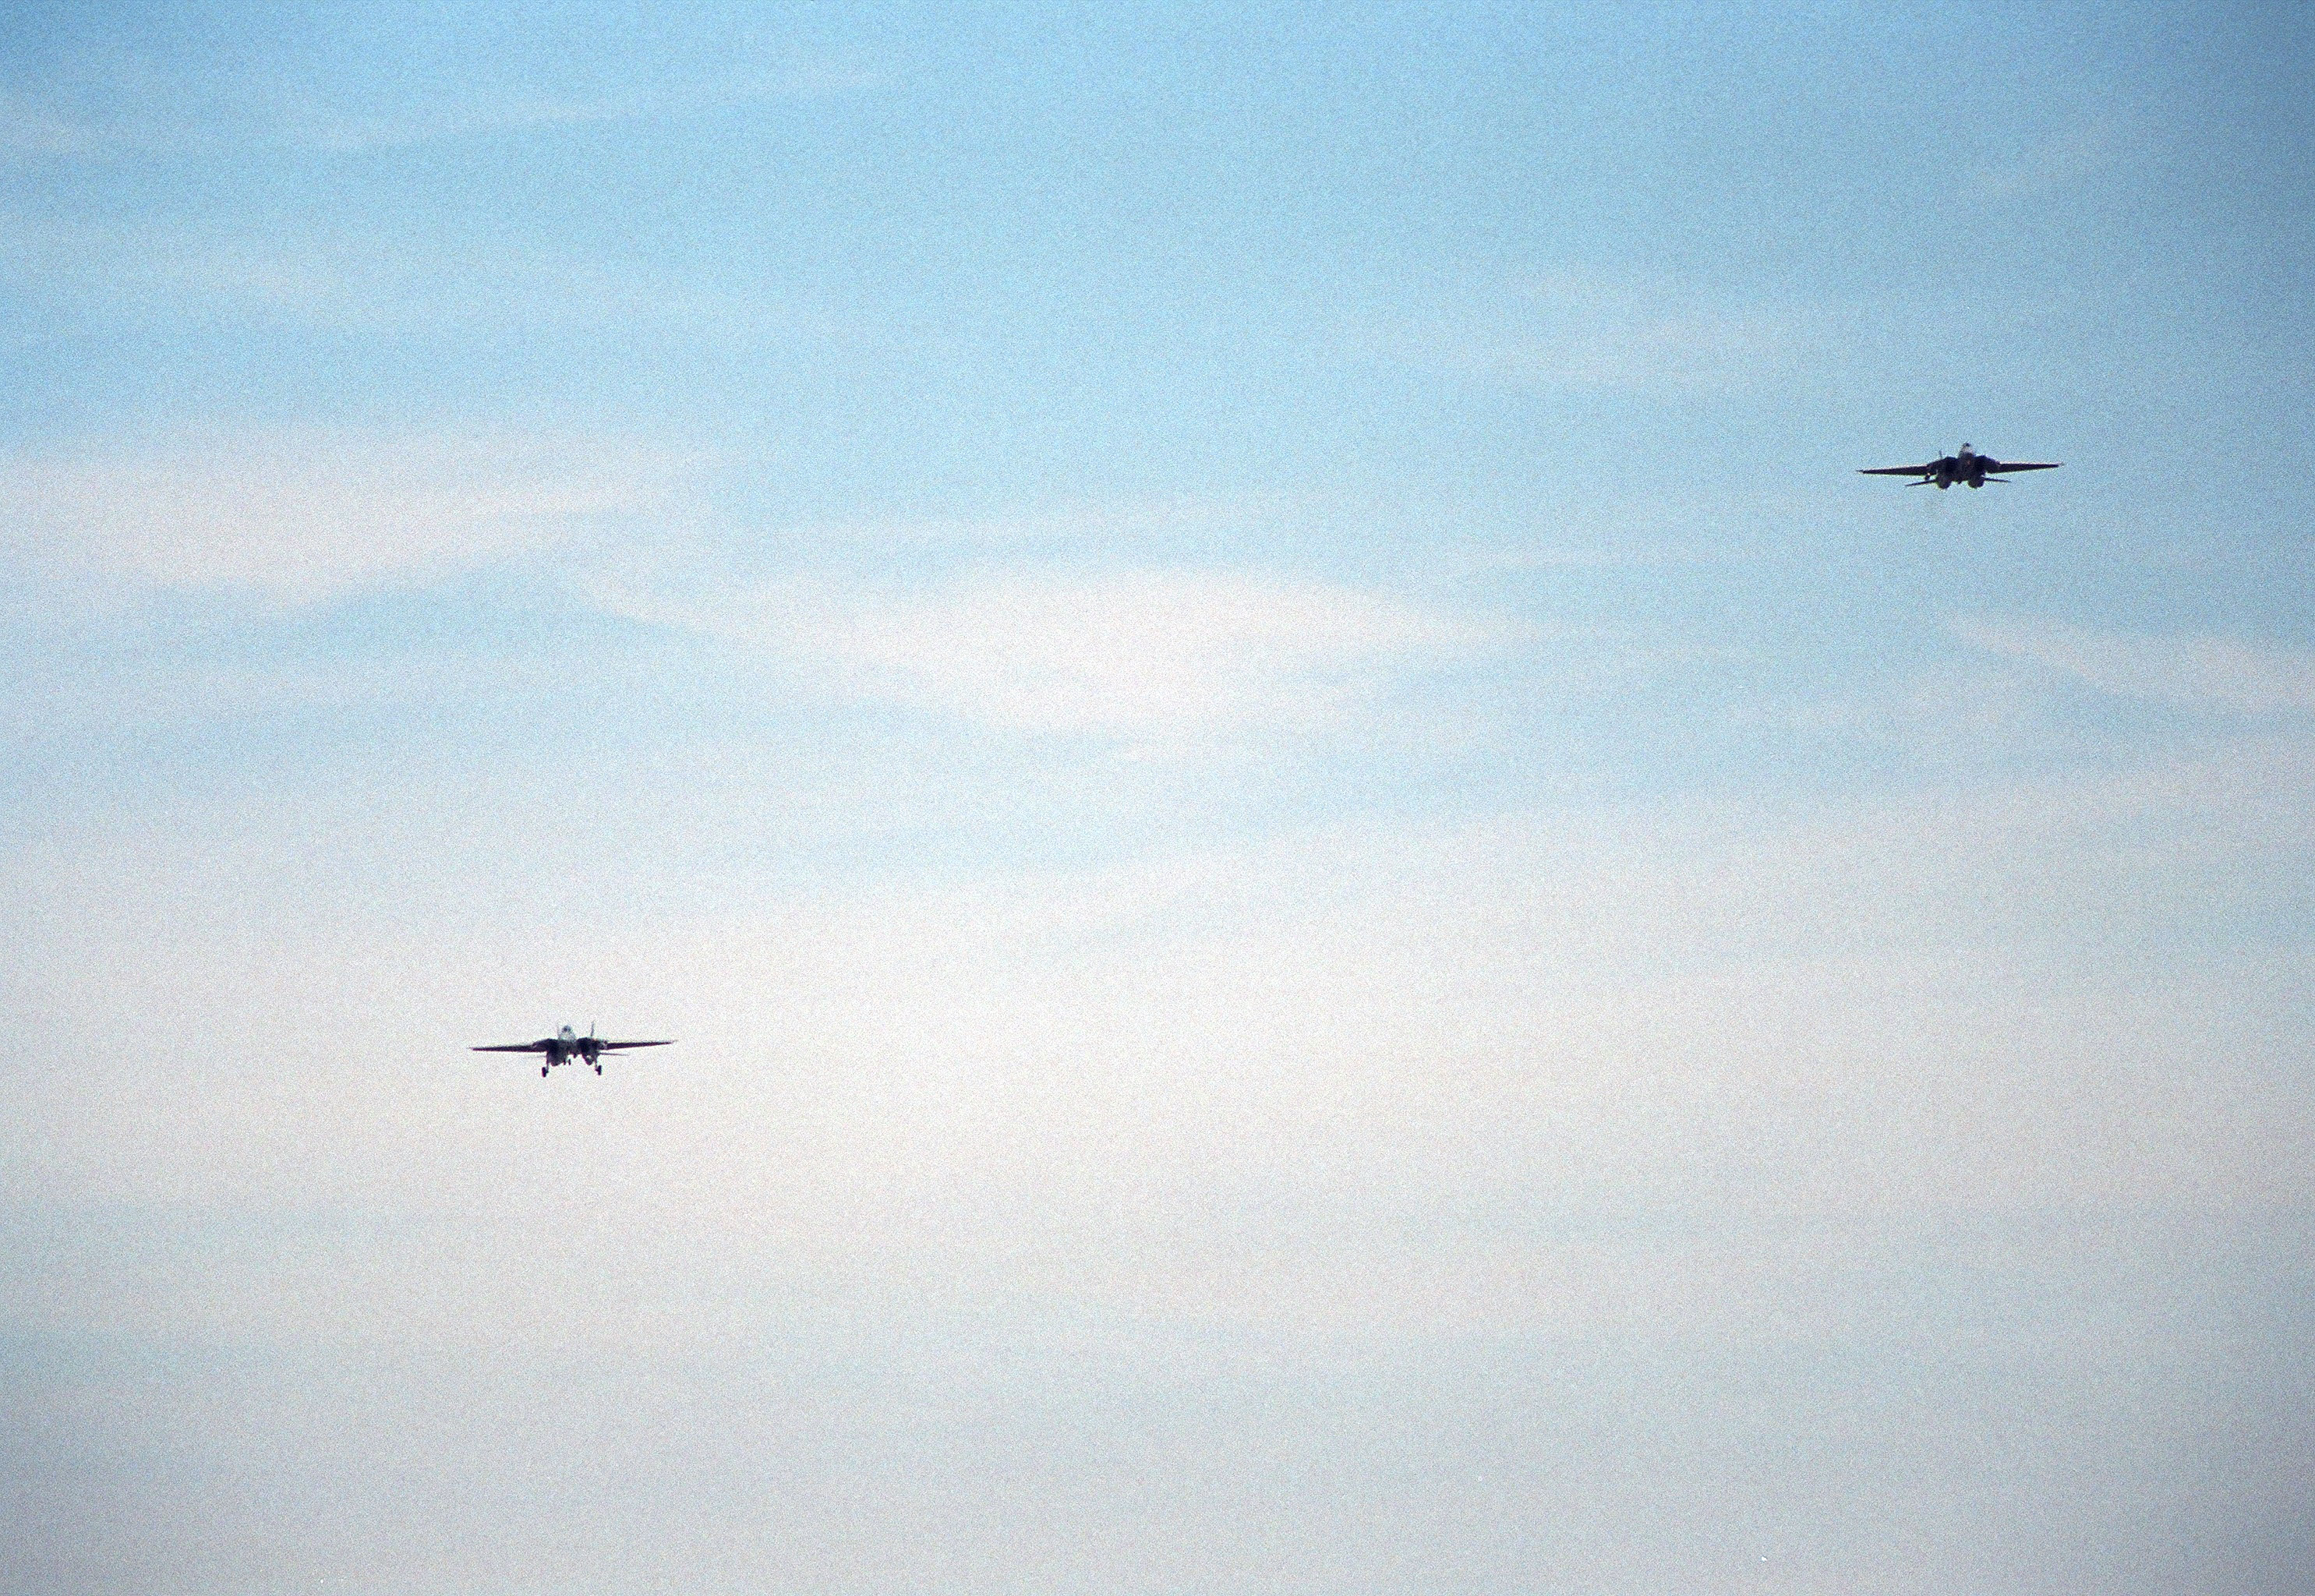F14: (466, 1019, 679, 1077), (1854, 442, 2065, 491)
